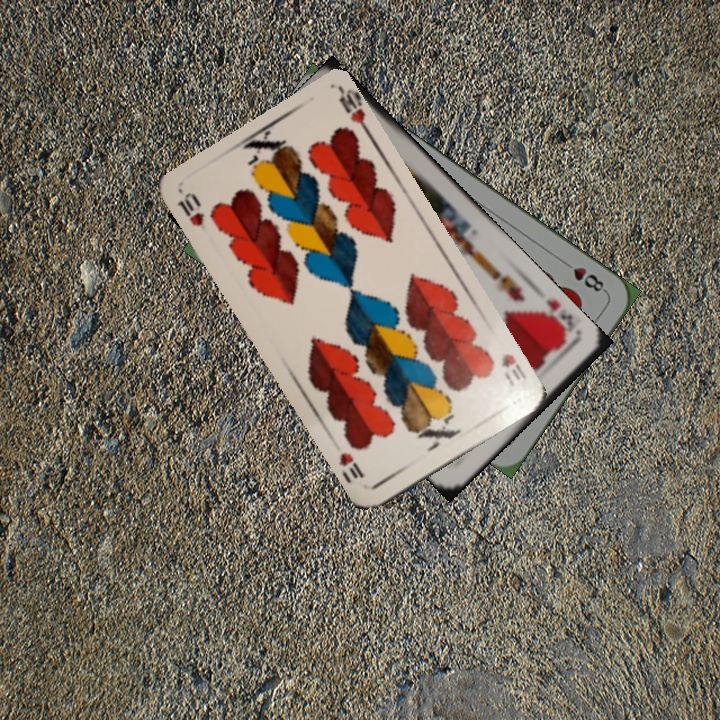H10: (172, 188, 207, 229), (496, 349, 530, 389)
H8: (558, 256, 609, 296)
HK: (532, 295, 584, 346)
